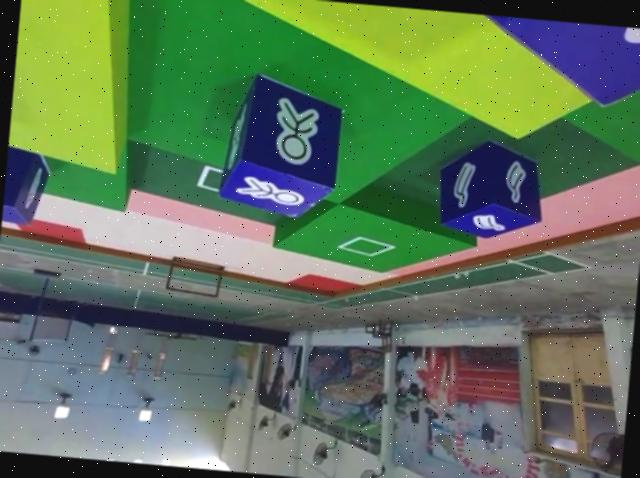R2 Real Blue: (216, 67, 345, 219), (434, 134, 549, 242), (0, 134, 50, 228)
